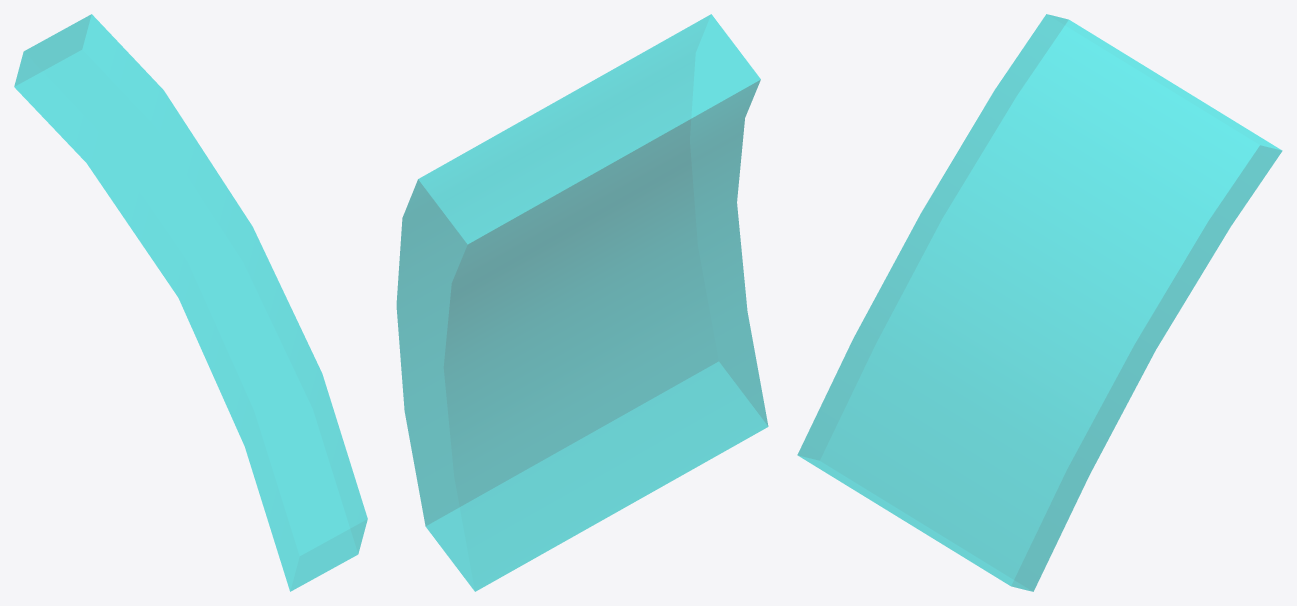
The model's file is SM_Bld_Plane_Front_01_Door_01_Collision.fbx.
The picture shows the model from 3 angles, left to right: view 1: azimuth 30°, elevation 25°; view 2: azimuth 150°, elevation 25°; view 3: azimuth 270°, elevation 25°; orthographic projection. The views are drawn at different scales.
Visible parts, largest first — view 1: SM_Bld_Plane_Front_01_Door_01_Collision; view 2: SM_Bld_Plane_Front_01_Door_01_Collision; view 3: SM_Bld_Plane_Front_01_Door_01_Collision.
Part boxes in pixels (box(x1,y1,x2,y2)): SM_Bld_Plane_Front_01_Door_01_Collision: box(14, 14, 367, 591); SM_Bld_Plane_Front_01_Door_01_Collision: box(396, 14, 768, 591); SM_Bld_Plane_Front_01_Door_01_Collision: box(797, 14, 1282, 591).
Bounding box in the file's own units: 169 × 278 × 250.
